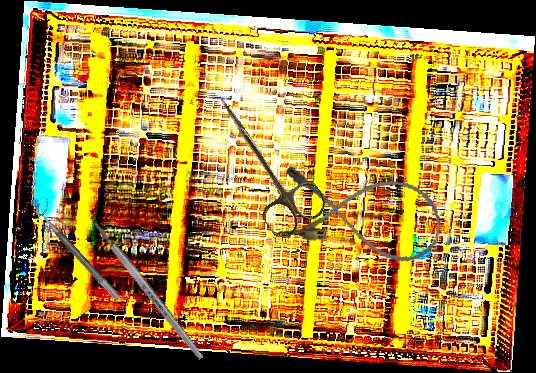Cannula: (274, 160, 448, 268)
Fixation Ring: (31, 196, 129, 302)
Iris Scissors: (193, 83, 332, 244)
Scalpel Handle: (90, 219, 206, 362)
